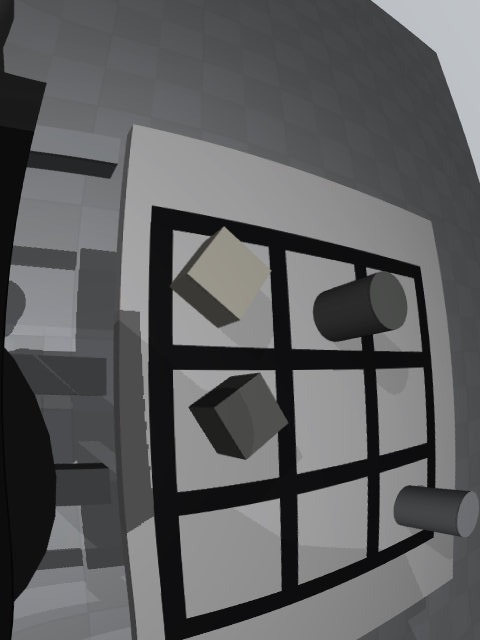can: (393, 485, 479, 537)
cube: (188, 373, 289, 460)
cylinder: (313, 271, 407, 342)
foam: (169, 226, 271, 328)
